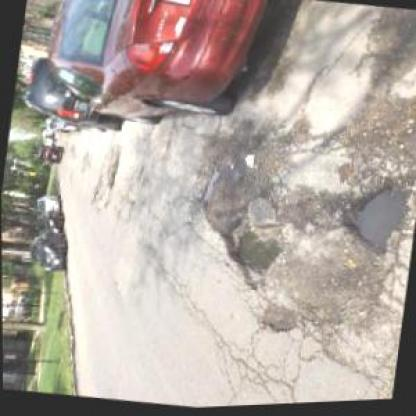pothole: (210, 208, 292, 297), (337, 176, 410, 262), (257, 300, 298, 338), (104, 155, 119, 189), (240, 152, 259, 174)
